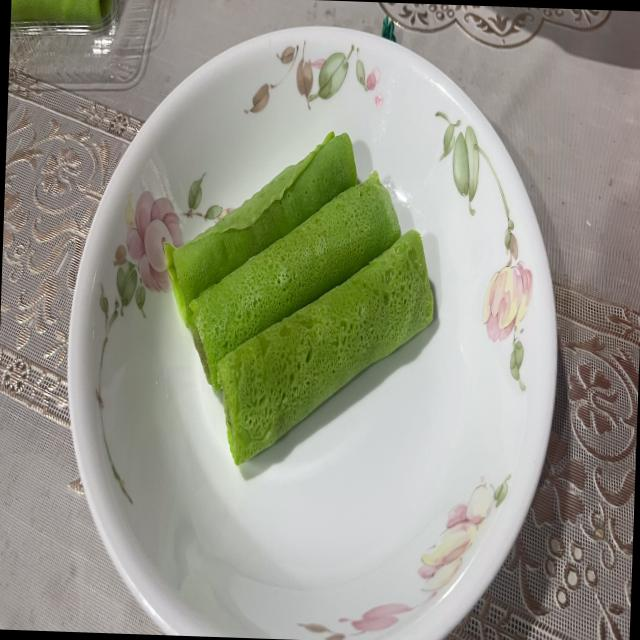Kuih-Ketayap: (217, 230, 433, 464), (190, 180, 401, 390), (166, 131, 356, 324)
